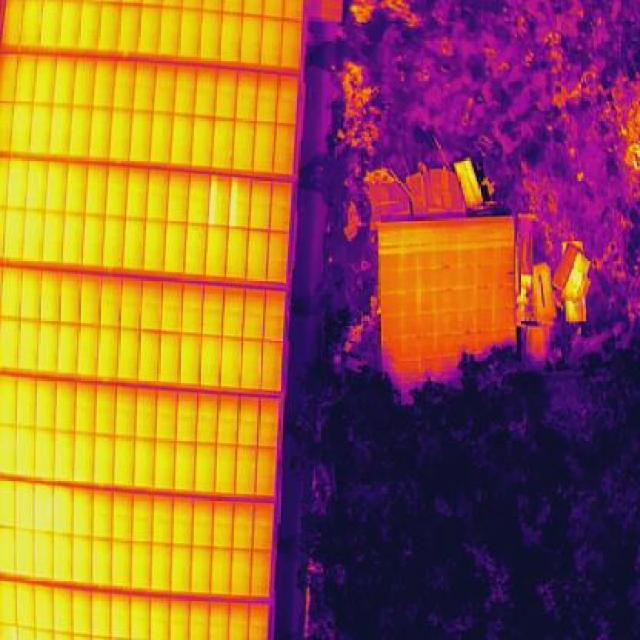diode: (229, 174, 240, 223), (208, 171, 218, 224)
